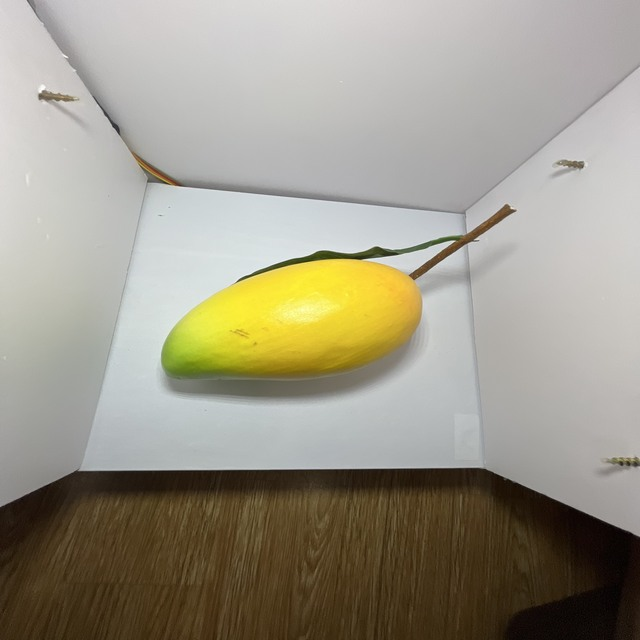Xoai: (136, 215, 442, 441), (227, 177, 271, 180)
